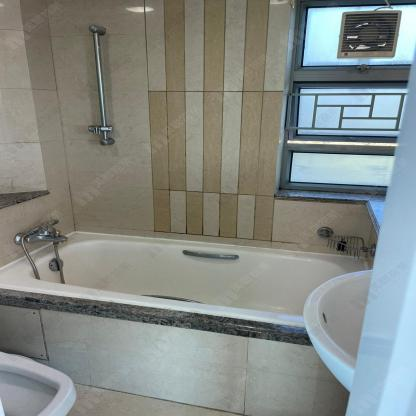Bathtub: (0, 231, 366, 413)
Exhaust Fan: (336, 11, 405, 58)
Toilet Sink: (304, 270, 373, 390)
